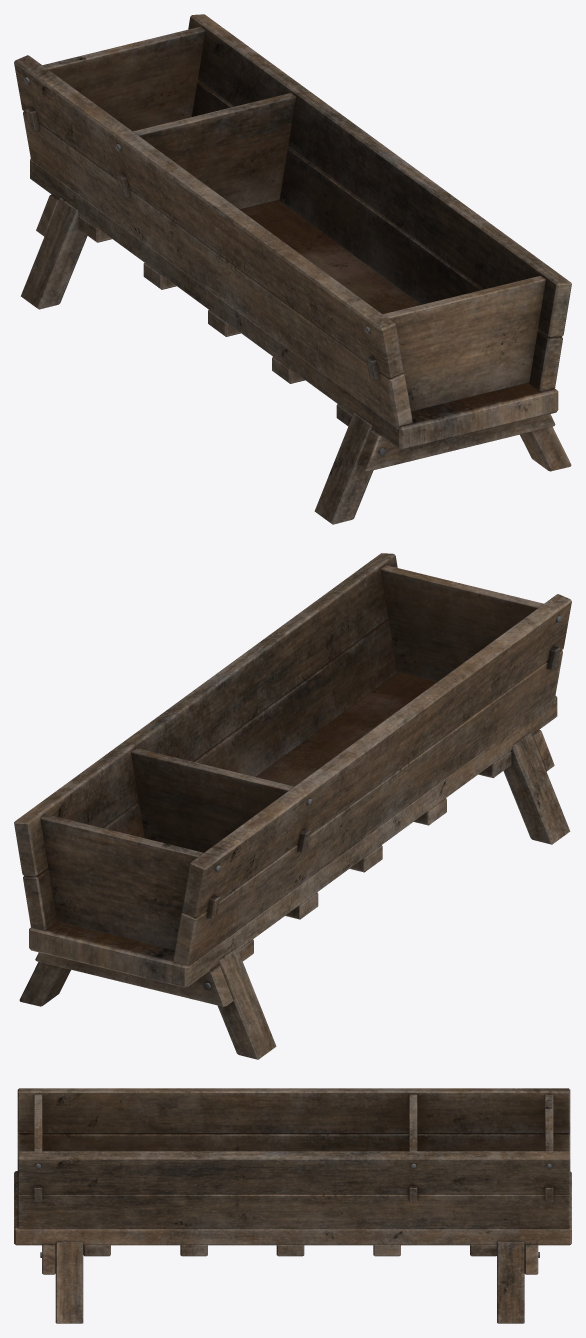
Rendered from Trough_LP.glb.
3 views of the same model, one above another, from view 1: azimuth 30°, elevation 25°; view 2: azimuth 150°, elevation 25°; view 3: azimuth 270°, elevation 25° (orthographic). The views are drawn at different scales.
Visible parts, largest first — view 1: Trough_LP; view 2: Trough_LP; view 3: Trough_LP.
Boxes of the visible parts, left/top/right/bottom form: Trough_LP: left=14, top=14, right=571, bottom=524; Trough_LP: left=14, top=553, right=571, bottom=1059; Trough_LP: left=14, top=1088, right=571, bottom=1323.
Size of the model in its own units: 0.7544 by 0.6342 by 2.02.
Materials: 1 (1 with a texture image).
